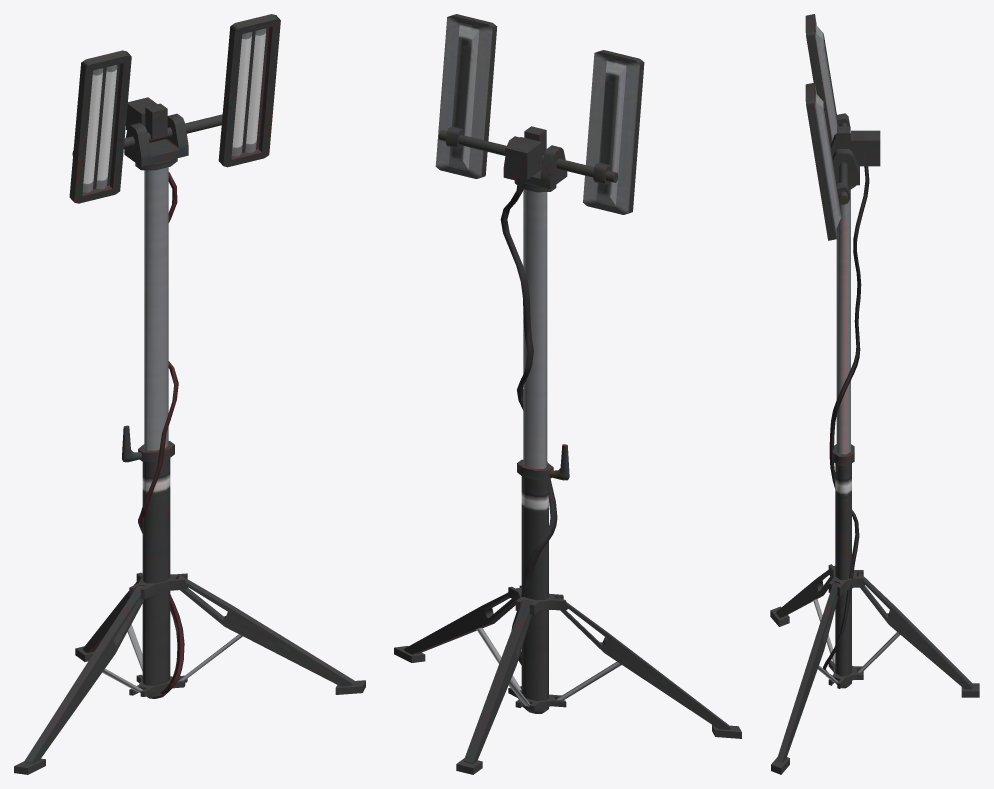
Rendered from Floodlight.gltf.
The picture shows the model from 3 angles, left to right: view 1: azimuth 30°, elevation 25°; view 2: azimuth 150°, elevation 25°; view 3: azimuth 270°, elevation 25°; orthographic projection. The views are drawn at different scales.
Visible parts, largest first — view 1: Cube.370; view 2: Cube.370; view 3: Cube.370.
Part boxes in pixels (x1,y1,x2,y2): Cube.370: (14,14,365,774); Cube.370: (394,14,741,774); Cube.370: (770,14,979,774).
Bounding box in the file's own units: 3.11 × 5.73 × 1.7.
Materials: 2 (1 with a texture image).
